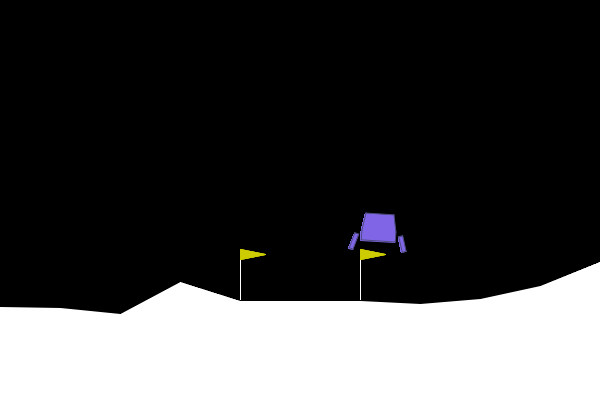lander: (347, 210, 410, 254)
